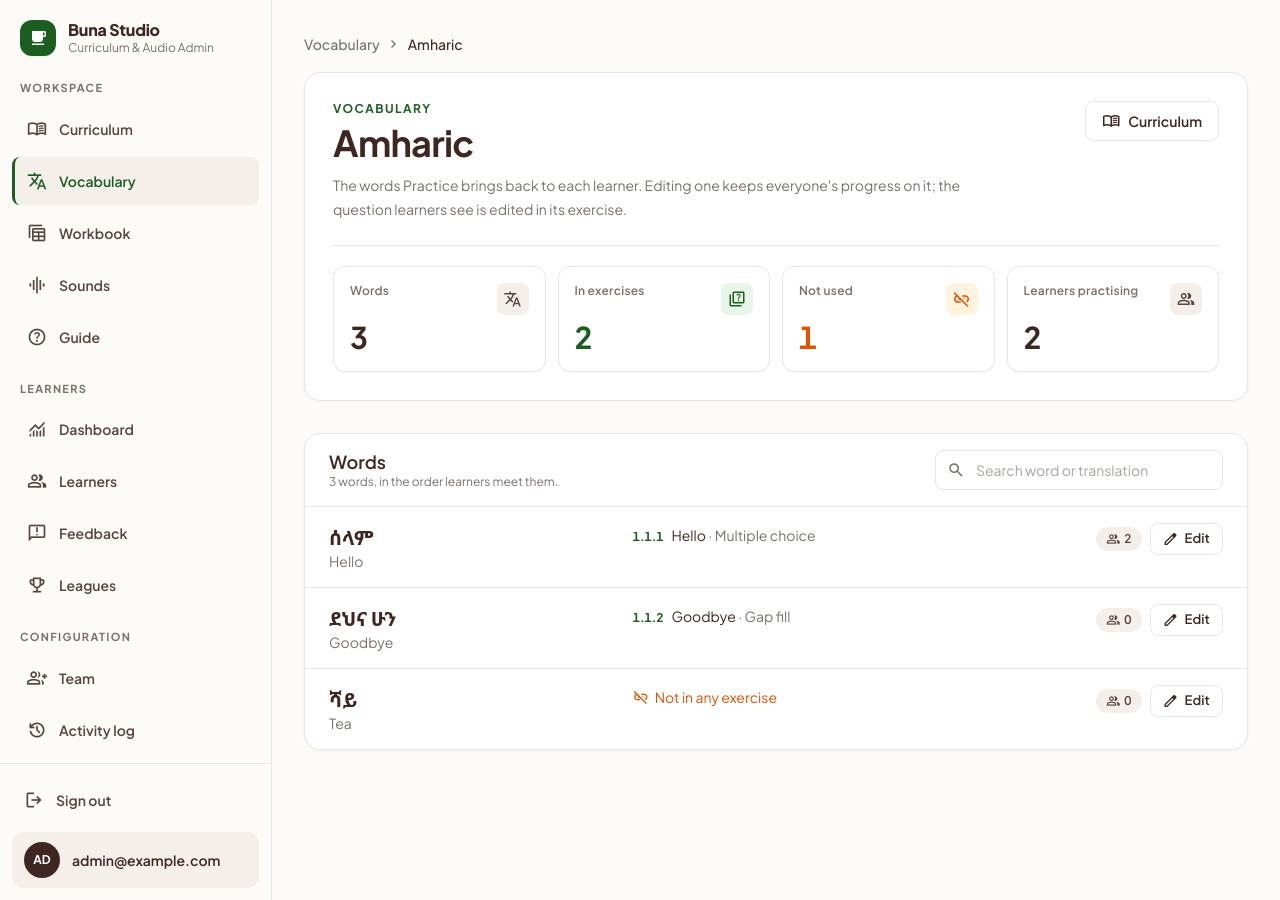
Test case: the vocabulary page › edits a word, saves it trimmed and shows the saved text
This screenshot has width=1280, height=900.
Expected: the heading "Amharic" is shown, [333,120,474,165]
Click the button with aria-label "Edit ሰላም" at (1186, 539), box [1150,523,1223,555]
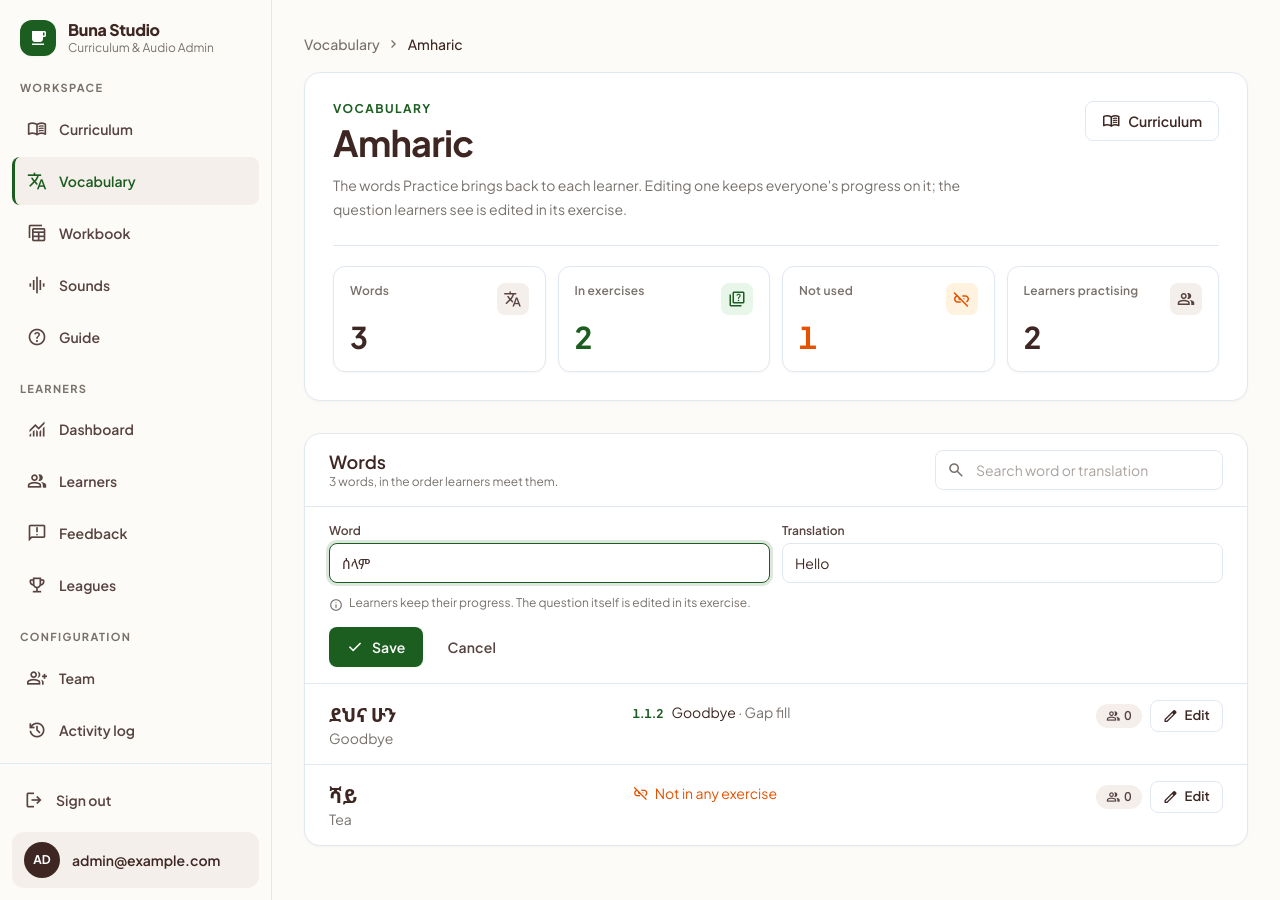
Expected: the text "Learners keep their progress" is shown, [349,595,751,610]
Replace the text in the field labelled "Translation" with "  Hi there " at (1002, 563), box [782,543,1223,583]
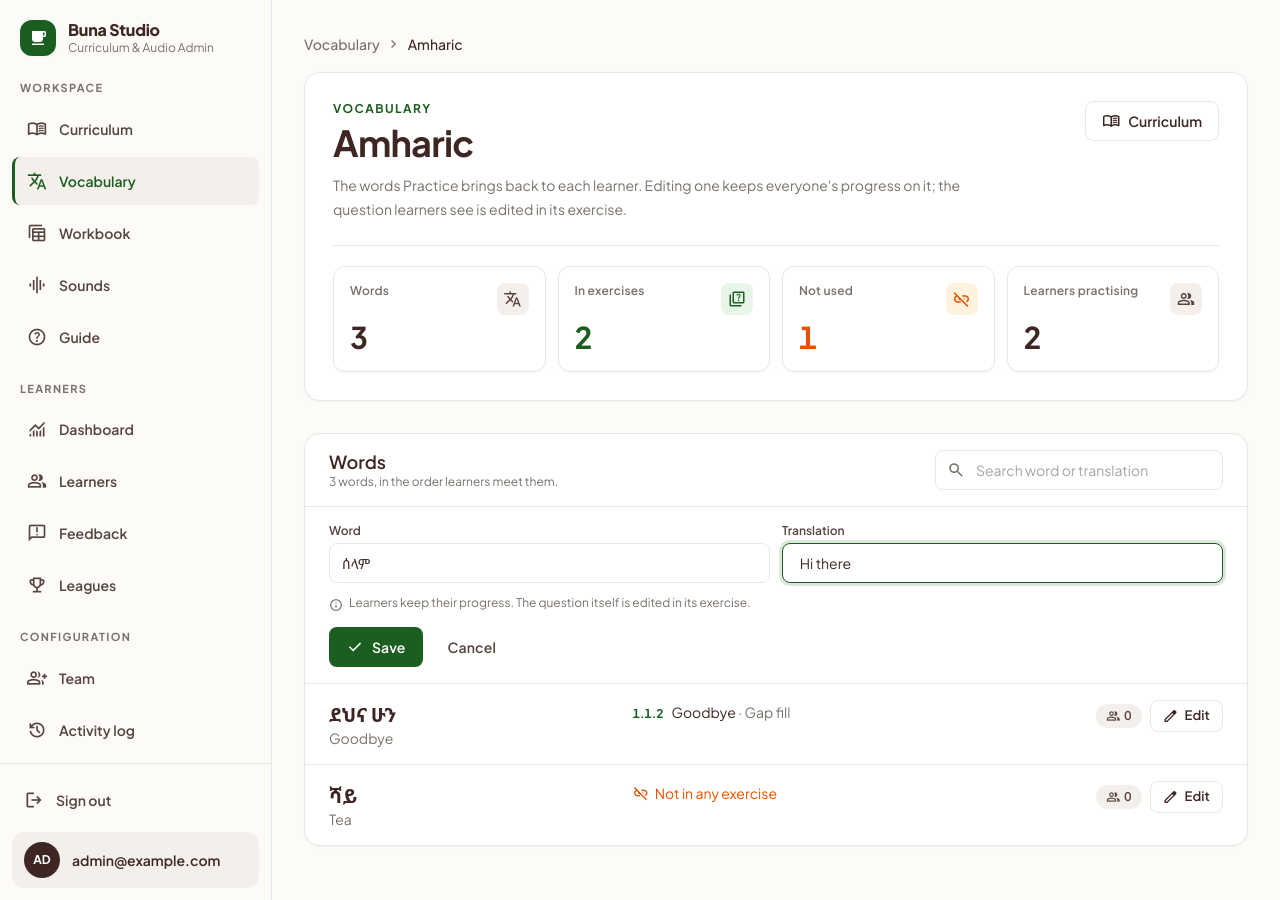
Click the button "Save" at (376, 647), box [329,627,423,667]
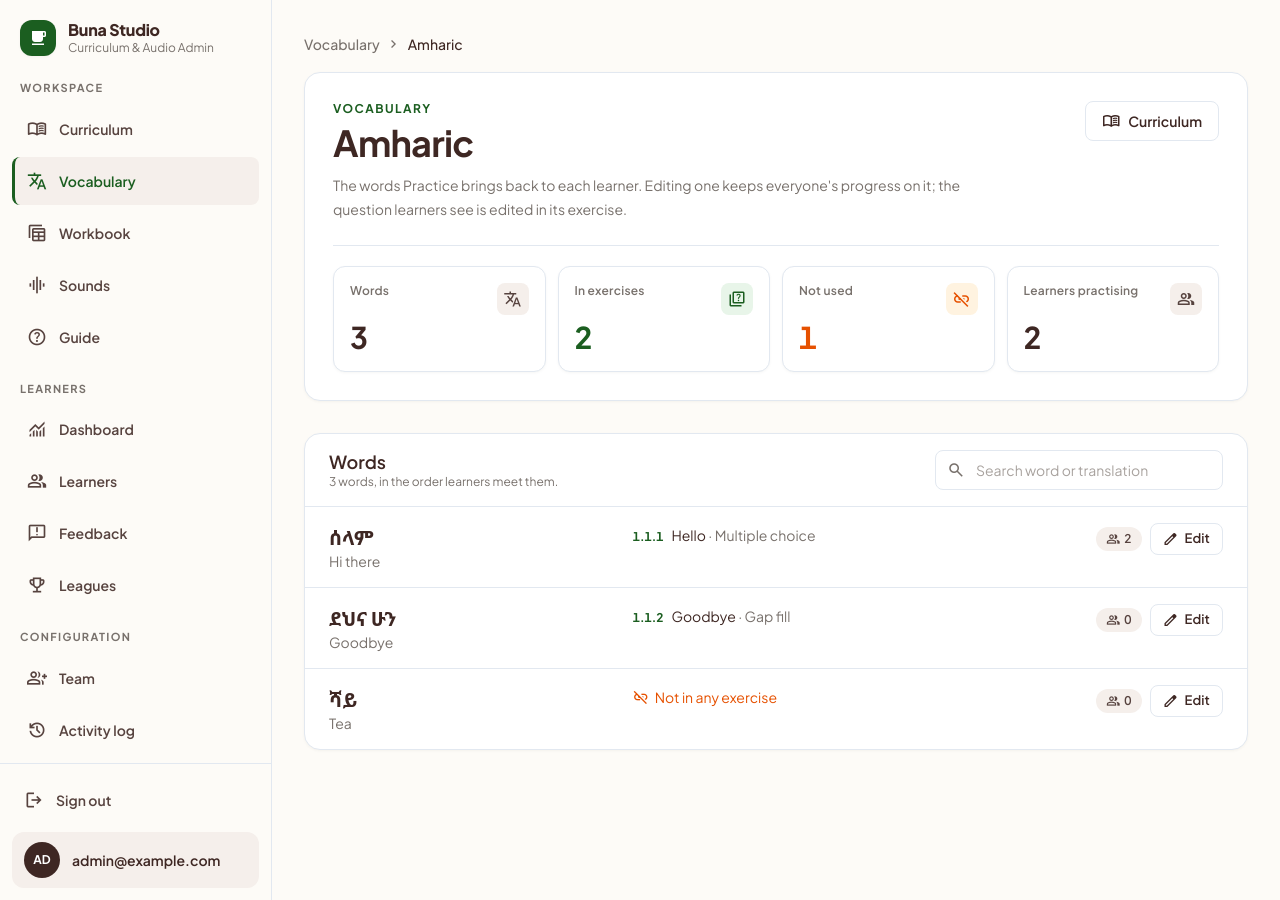
Expected: the form is gone
Expected: the text "Hi there" is shown, [329,552,380,570]
